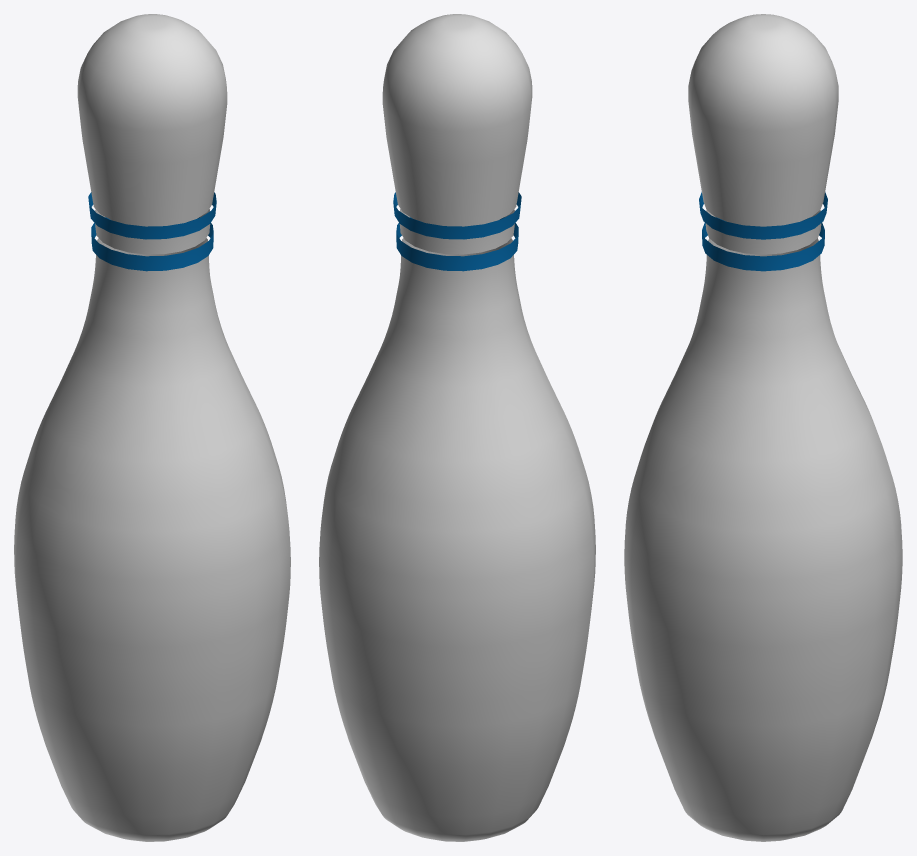
Rendered from quille.glb.
3 views of the same model, side by side, from view 1: azimuth 30°, elevation 25°; view 2: azimuth 150°, elevation 25°; view 3: azimuth 270°, elevation 25° (orthographic).
Parts seen in each view (by area): view 1: pin; view 2: pin; view 3: pin.
Part boxes in pixels (box(x1,y1,x2,y2)): pin: box(14, 14, 290, 841); pin: box(319, 14, 595, 841); pin: box(624, 14, 902, 841).
Size of the model in its own units: 0.48 by 1.52 by 0.48.
